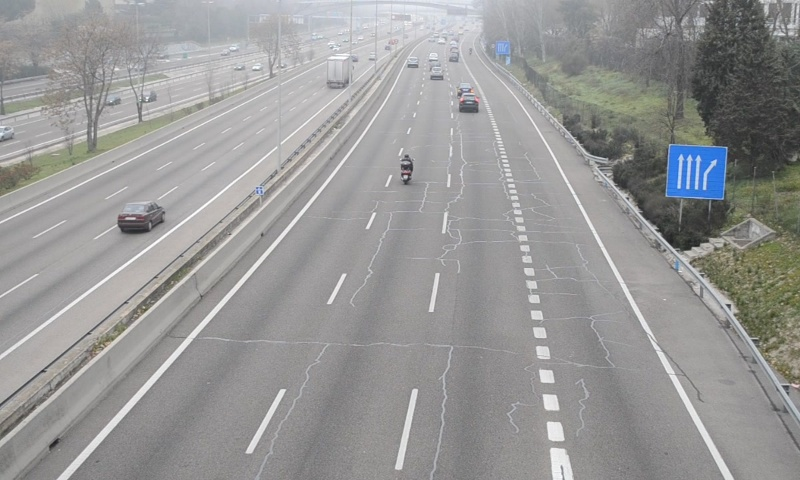car: (458, 92, 479, 114)
motorcycle: (398, 153, 414, 182)
